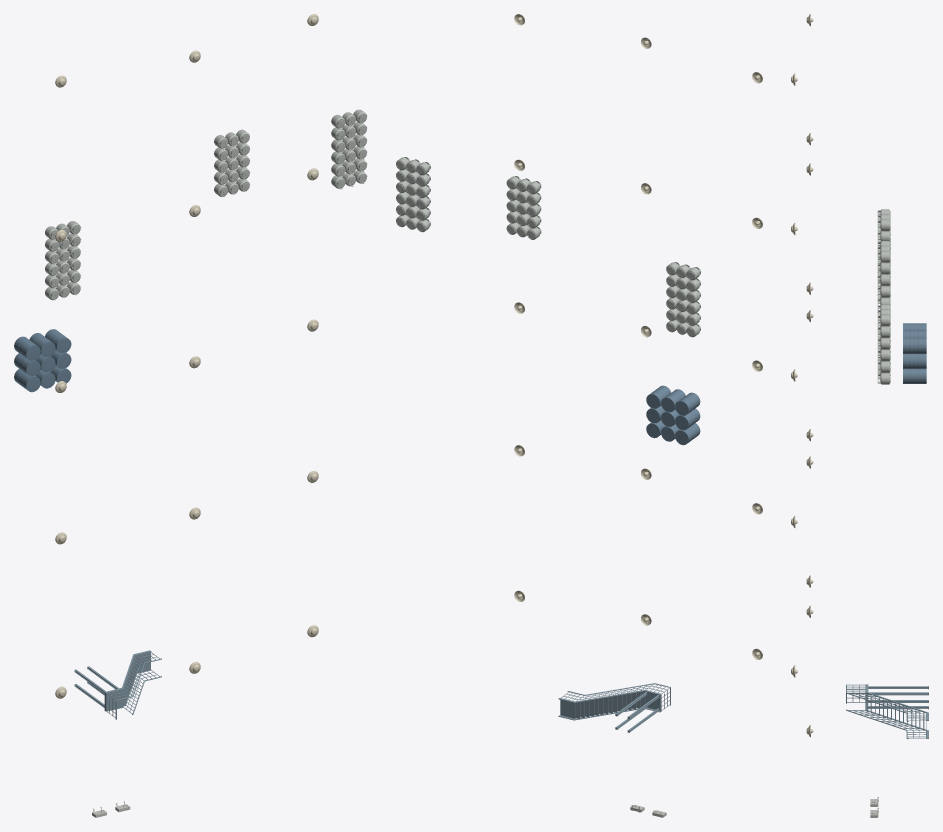
The model's file is warehouse-equipment.glb.
3 renders of one model, left to right at view 1: azimuth 30°, elevation 25°; view 2: azimuth 150°, elevation 25°; view 3: azimuth 270°, elevation 25°, orthographic. The views are drawn at different scales.
Visible parts, largest first — view 1: 14. gas, 13. gentong, 22. tangga, 21. lampu; view 2: 14. gas, 22. tangga, 13. gentong, 21. lampu; view 3: 14. gas, 22. tangga, 13. gentong, 21. lampu.
Part boxes in pixels (x1,y1,x2,y2): 14. gas: [45, 109, 367, 300]; 13. gentong: [14, 329, 71, 392]; 22. tangga: [74, 650, 161, 719]; 21. lampu: [55, 14, 318, 698]; 14. gas: [396, 157, 700, 337]; 22. tangga: [558, 683, 670, 732]; 13. gentong: [646, 385, 700, 445]; 21. lampu: [514, 14, 762, 659]; 14. gas: [877, 209, 890, 384]; 22. tangga: [846, 684, 928, 738]; 13. gentong: [903, 323, 926, 383]; 21. lampu: [791, 14, 813, 737].
Bounding box in the file's own units: 12.18 × 26.1 × 4.31.
